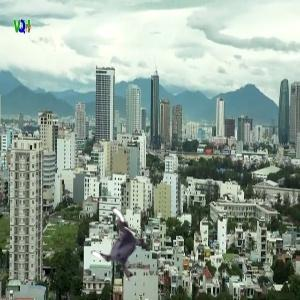drone: (89, 212, 157, 280)
